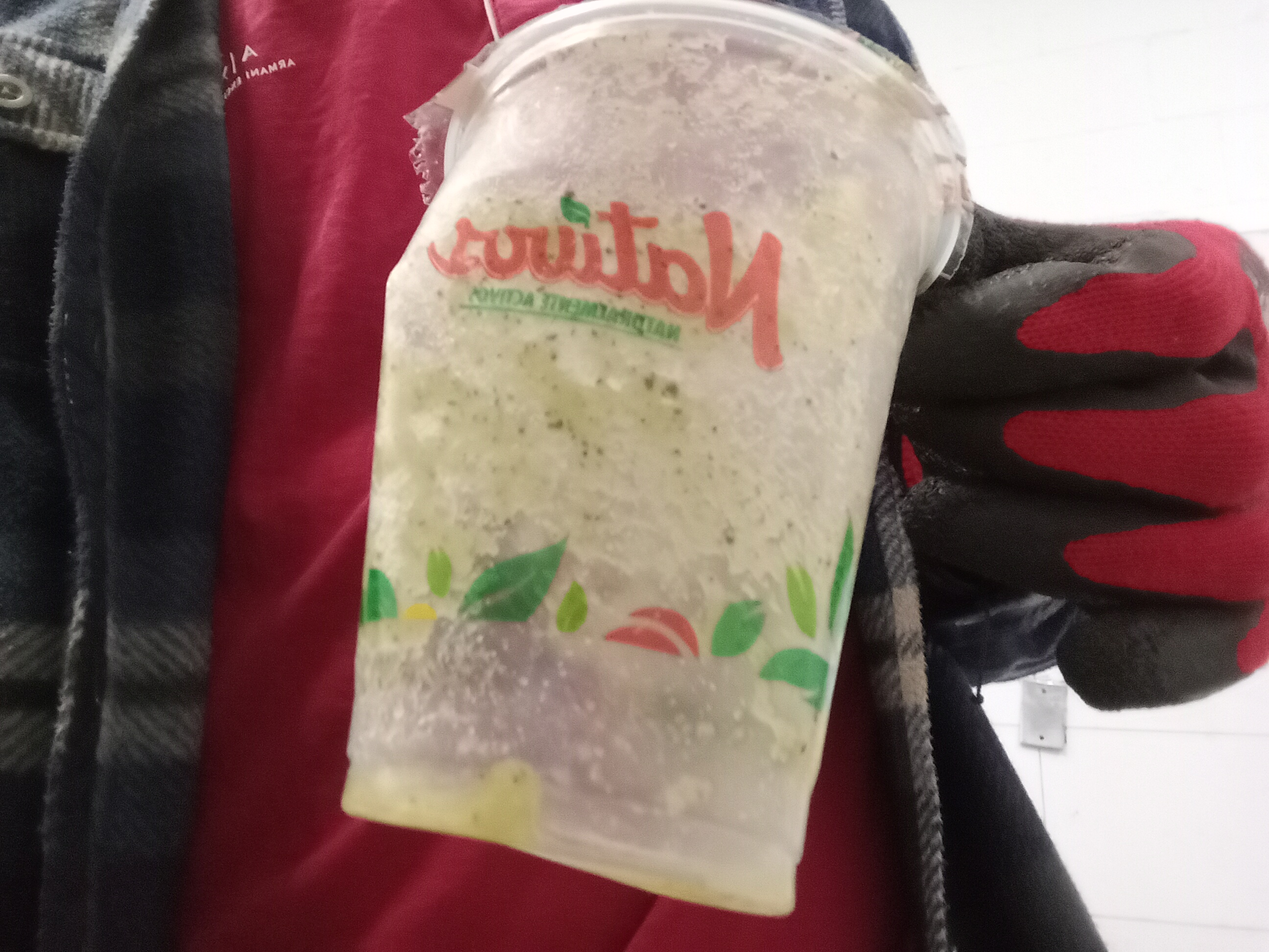Plastico: (342, 0, 966, 916)
